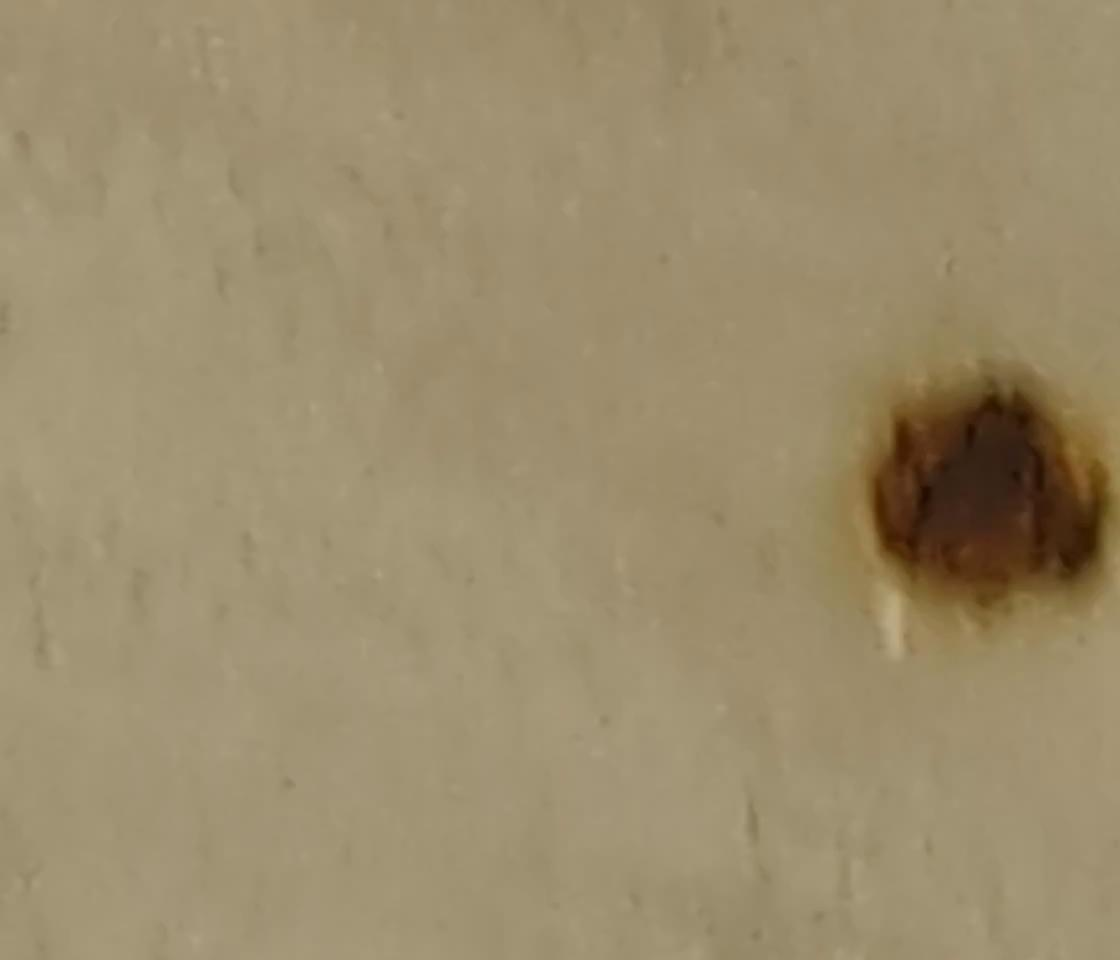rust: (877, 402, 1046, 570)
